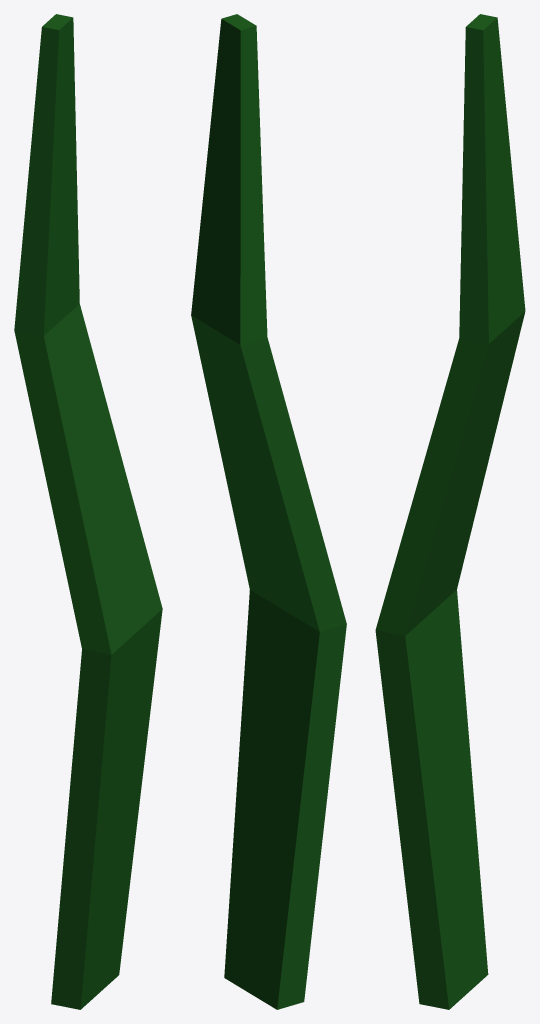
The model's file is Single Grass.glb.
3 renders of one model, left to right at view 1: azimuth 90°, elevation 25°; view 2: azimuth 150°, elevation 25°; view 3: azimuth 270°, elevation 25°, orthographic.
Parts seen in each view (by area): view 1: Single grass; view 2: Single grass; view 3: Single grass.
Boxes of the visible parts, x1,y1,x2,y2 form: Single grass: (14,14,162,1009); Single grass: (191,14,346,1009); Single grass: (375,14,525,1009).
Size of the model in its own units: 0.2471 by 1.85 by 0.2579.
